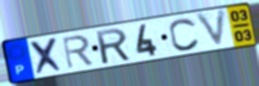4: (135, 22, 159, 58)
C: (168, 17, 202, 52)
R: (94, 26, 133, 66), (60, 33, 96, 71)
V: (193, 7, 229, 50)
X: (28, 36, 67, 77)
